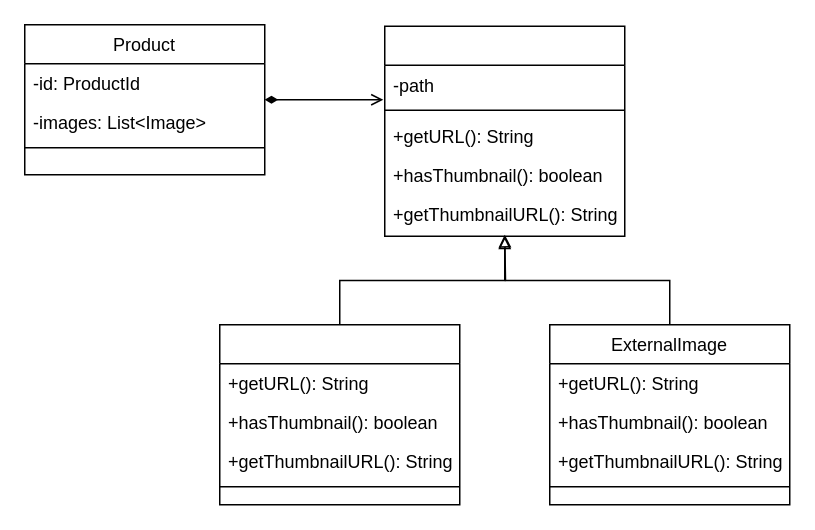
The diagram is 815 pixels wide and 530 high, and some of its shapes have lost their labels. The shapes that lost their labels are listed below. From the top down, each one's box as (x1, y1, x2, y2) in pixels, then its label:
(383, 25, 625, 236): Image
(218, 323, 460, 505): InternalImage
